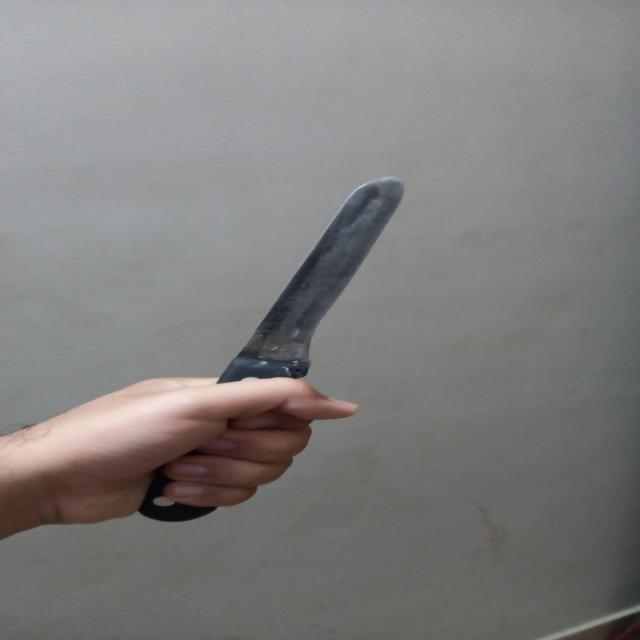Knife: (142, 172, 430, 521)
